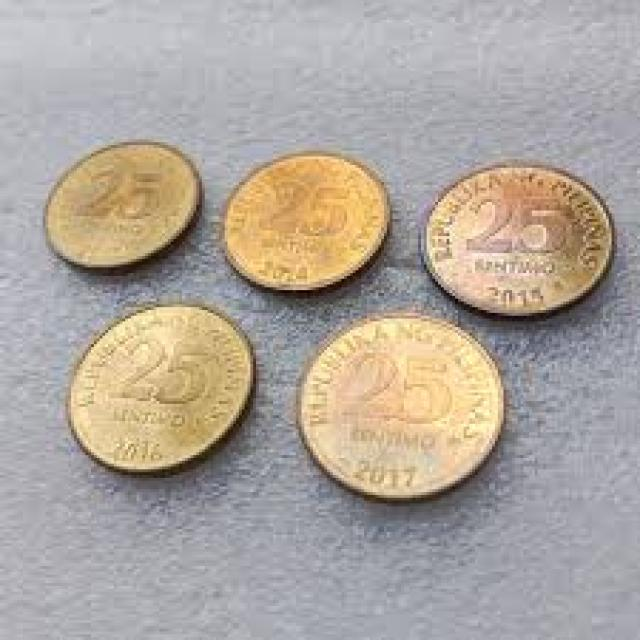25 cents-old: (298, 311, 502, 498), (65, 302, 248, 474), (420, 162, 612, 317), (42, 124, 202, 272), (223, 151, 387, 292)
